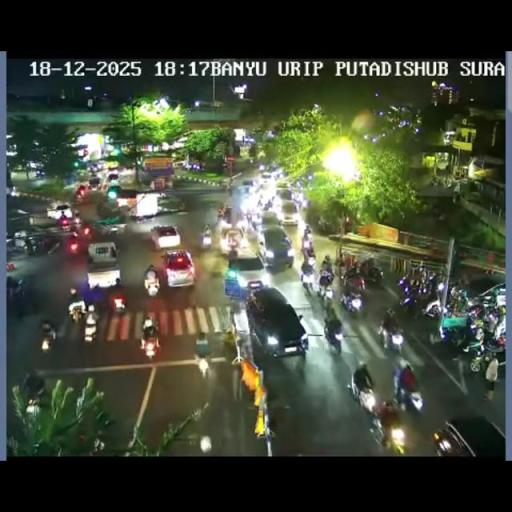Car: (245, 286, 309, 356), (434, 415, 504, 456), (226, 253, 270, 295), (86, 243, 120, 290), (258, 226, 292, 269), (161, 250, 195, 288), (150, 224, 181, 250), (113, 188, 146, 210), (278, 199, 300, 226), (234, 182, 255, 210), (46, 202, 74, 221), (258, 210, 280, 232), (74, 186, 88, 203), (260, 173, 274, 187), (106, 172, 120, 186), (87, 177, 101, 190)
Motorcycle: (461, 325, 504, 373), (377, 404, 404, 450), (394, 377, 424, 414), (378, 315, 405, 353), (22, 372, 46, 411), (439, 319, 468, 349), (266, 388, 290, 420), (339, 284, 363, 314), (79, 279, 104, 307), (194, 333, 211, 374), (356, 385, 379, 415), (324, 314, 342, 352), (220, 331, 238, 365), (236, 330, 254, 364), (402, 288, 422, 318), (140, 329, 160, 358), (38, 322, 57, 351), (448, 288, 469, 314), (82, 309, 98, 343), (300, 263, 318, 293), (243, 204, 262, 230), (318, 270, 334, 300), (342, 262, 362, 286), (14, 284, 28, 318), (422, 297, 442, 320), (492, 309, 506, 341), (143, 272, 160, 297), (366, 265, 384, 286), (466, 303, 484, 323), (317, 216, 337, 234), (425, 272, 438, 299), (102, 221, 122, 236), (320, 254, 333, 276), (302, 239, 316, 259), (70, 302, 84, 322), (260, 194, 275, 212), (218, 212, 232, 230), (113, 295, 126, 314), (200, 228, 211, 250), (69, 230, 80, 252), (398, 274, 410, 292), (80, 222, 92, 240), (228, 242, 238, 260), (24, 240, 35, 256), (72, 213, 82, 227), (301, 196, 309, 210), (303, 225, 312, 237), (227, 184, 233, 198), (70, 287, 76, 297), (438, 282, 444, 291)
